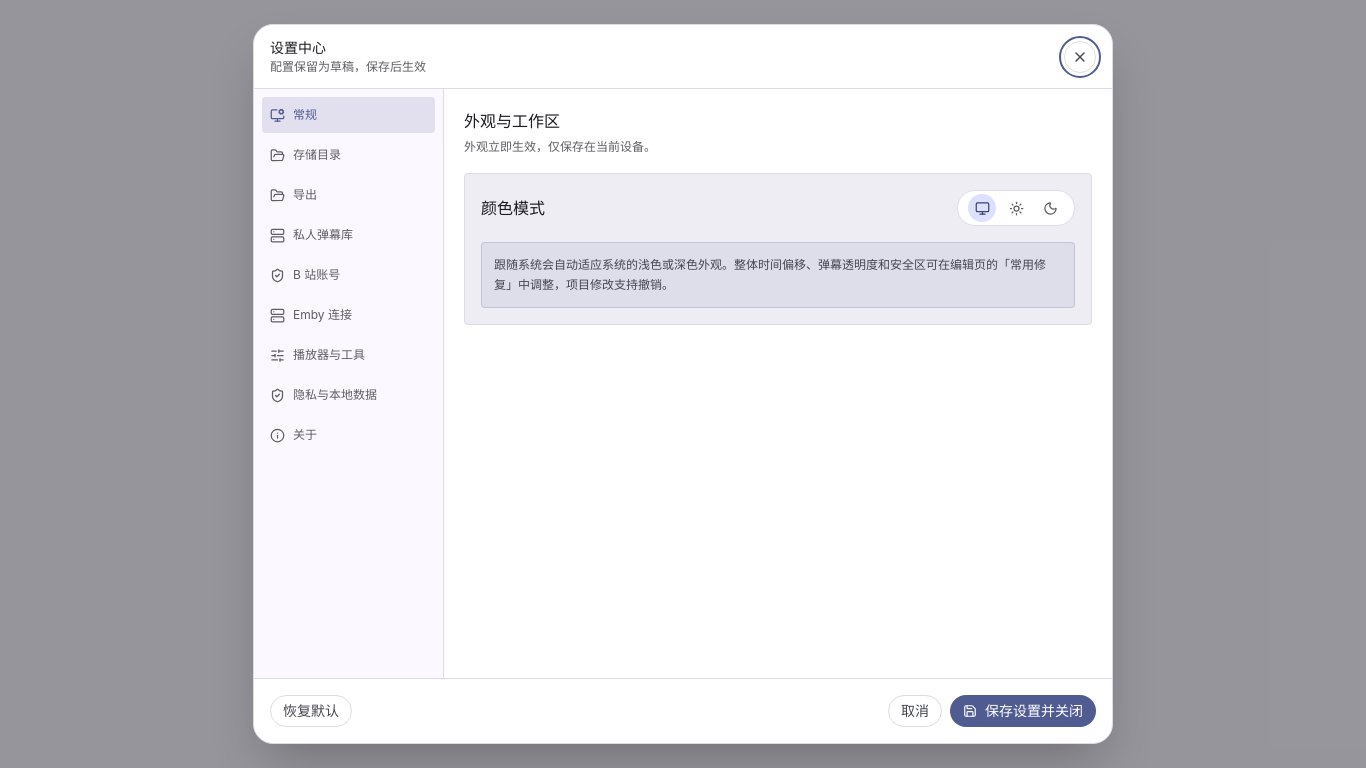
Test: 设置中心 › 用原生 context 与 cuFFT smoke test 显示 4090 真实可用状态
Click the button "播放器与工具" at point(348, 355), box [262,337,435,373]
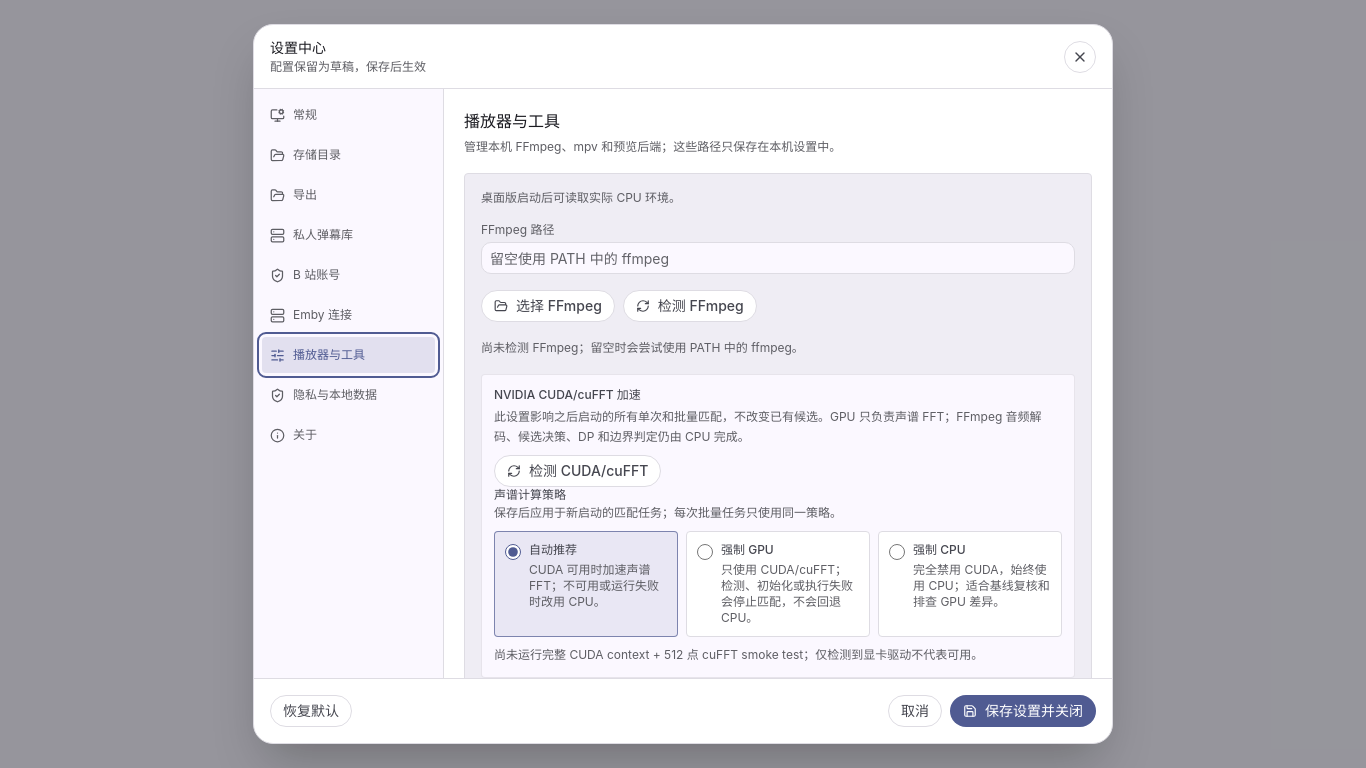
Click the button "检测 CUDA/cuFFT" at point(578, 471), box [494,455,661,487]
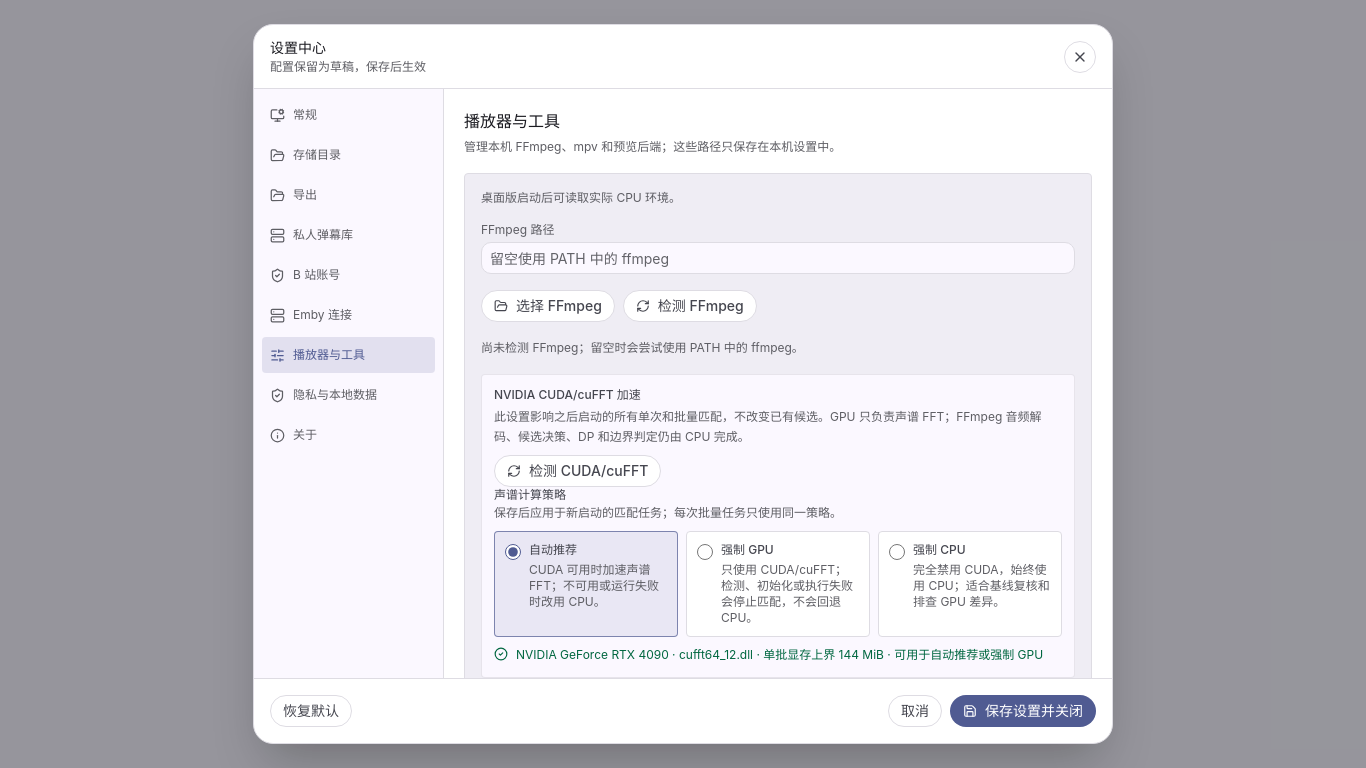
expect the message with test id "cuda-capability-result" shows "NVIDIA GeForce RTX 4090": met, box [516,647,1043,662]
expect the message with test id "cuda-capability-result" shows "可用于自动推荐或强制 GPU": met, box [516,647,1043,662]
